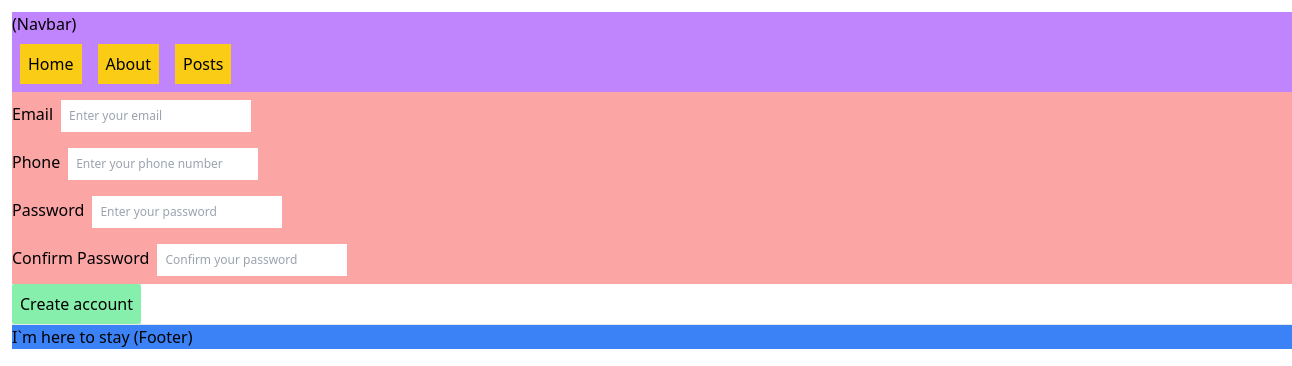
Test case: Simple working form › Should submit when inputs are filled and submit button clickd
The width and height of the screenshot is (1292, 366).
Step 1. Type "coolguy@gmail.com" into the field named "formEmail" → (156, 116), box [61,100,251,132]
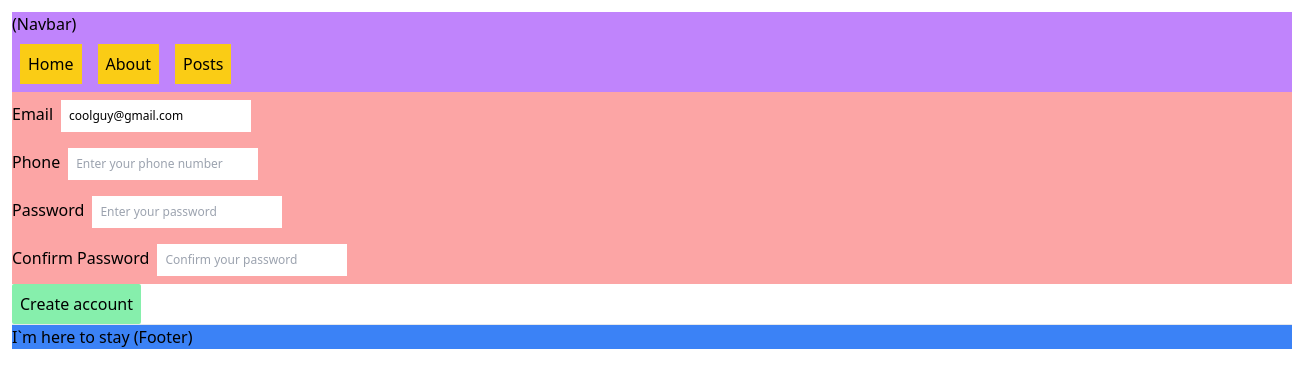
Step 2. Type "2348143932991" into the field named "formPhone" → (163, 164), box [68,148,258,180]
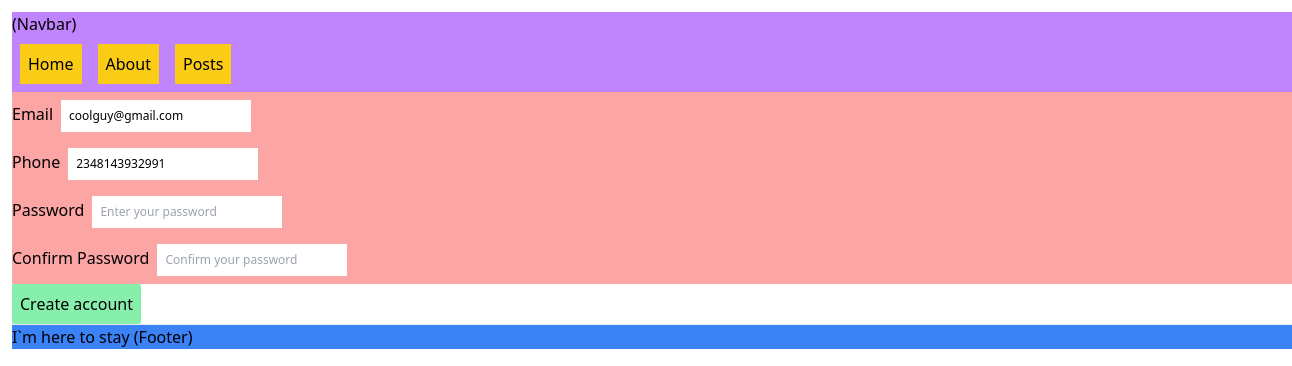
Step 3. Type "ASrty6655#$%f" into the password field named "formPassword" → (187, 212), box [92,196,282,228]
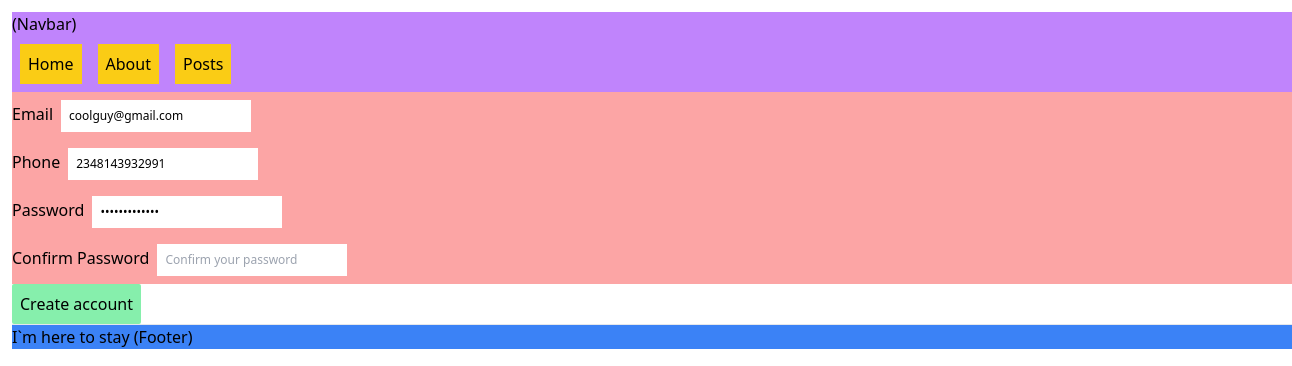
Step 4. Type "ASrty6655#$%f" into the password field named "formConfirmPassword" → (252, 260), box [157,244,347,276]
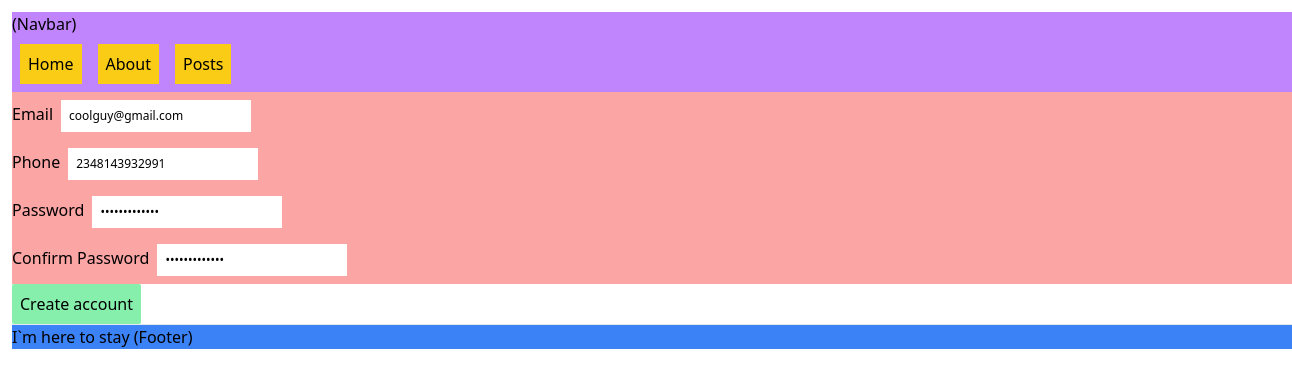
Step 5. Click the button "Create account" → click(76, 304), box [12,284,141,324]
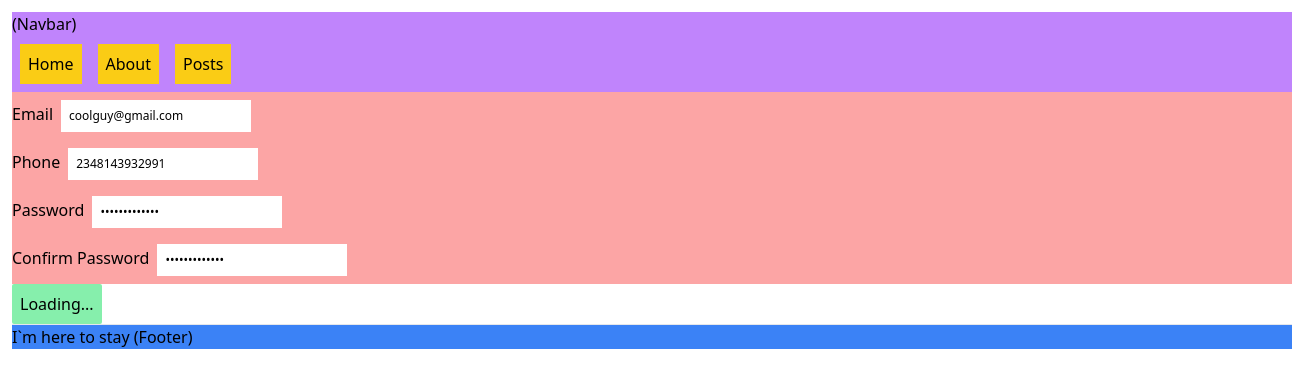
expect the button "Loading..." is shown: met, box [12,284,102,324]
